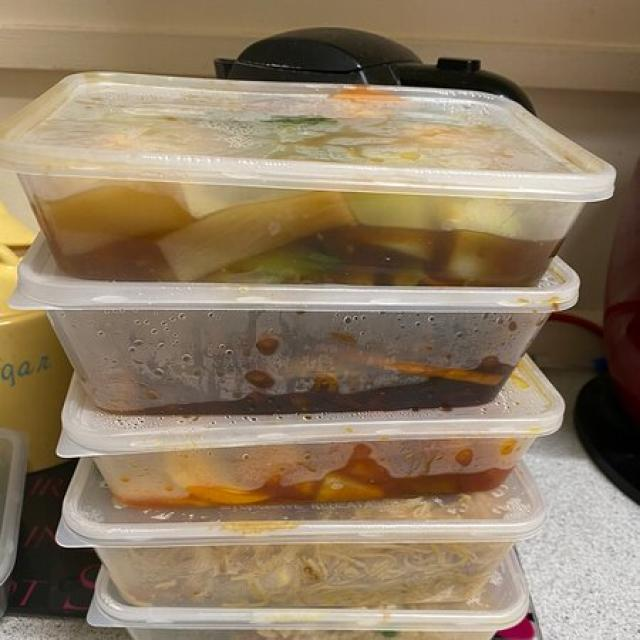plastic: (0, 67, 619, 285), (12, 255, 577, 412), (56, 478, 554, 640), (53, 388, 564, 505)
